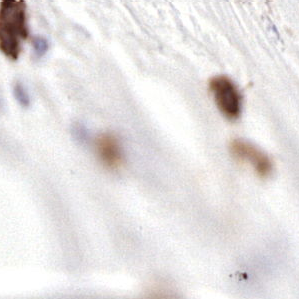Lymphocyte: (211, 76, 241, 114)
